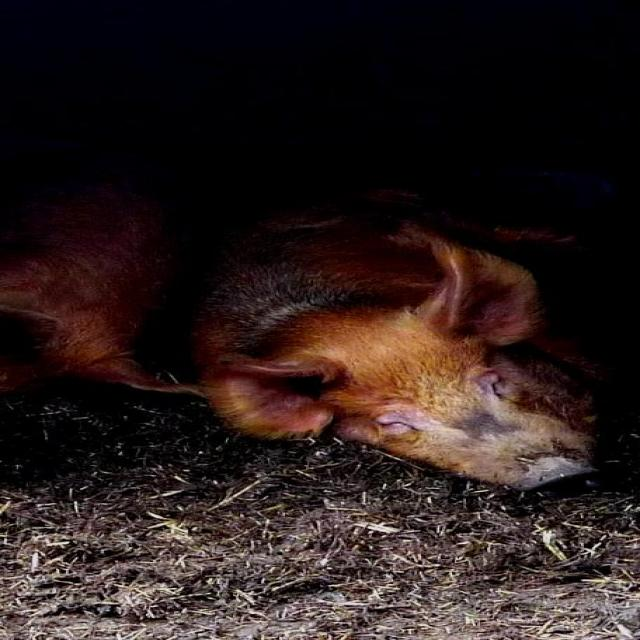pig: (194, 195, 592, 488), (0, 186, 193, 392)
